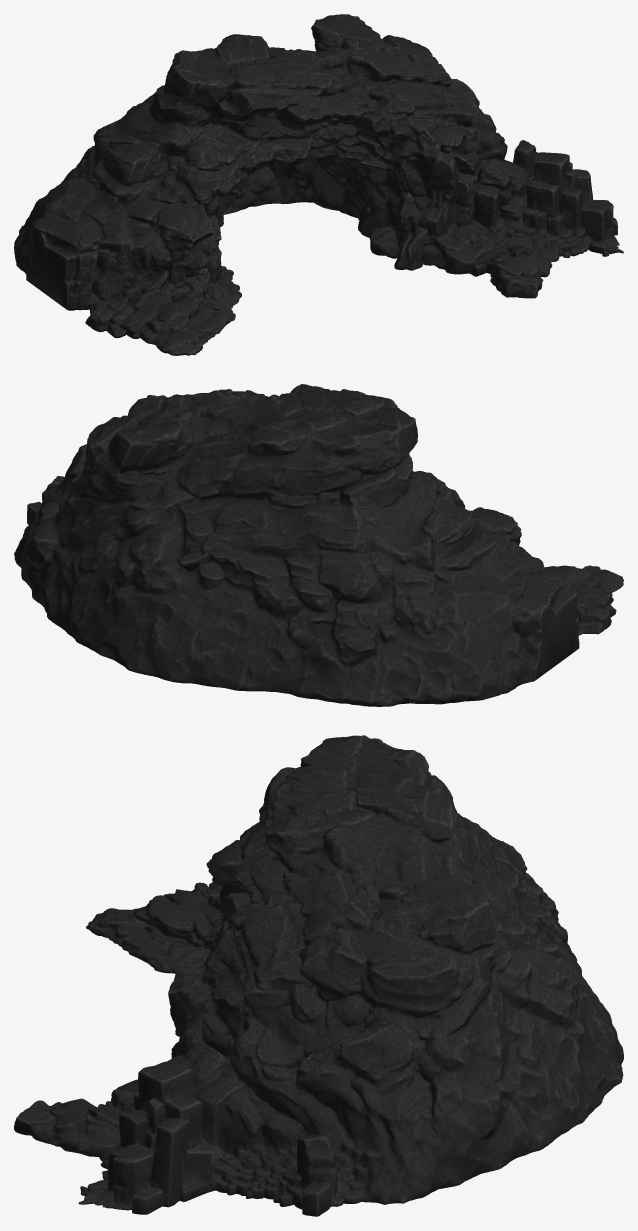
The model's file is Basalt_Arch.glb.
3 views of the same model, one above another, from view 1: azimuth 30°, elevation 25°; view 2: azimuth 150°, elevation 25°; view 3: azimuth 270°, elevation 25° (orthographic). The views are drawn at different scales.
Parts seen in each view (by area): view 1: Basalt_Arch; view 2: Basalt_Arch; view 3: Basalt_Arch.
Boxes of the visible parts, box(x1,y1,x2,y2) form: Basalt_Arch: box(14, 14, 623, 355); Basalt_Arch: box(14, 384, 623, 706); Basalt_Arch: box(14, 735, 623, 1216).
Size of the model in its own units: 1.89 by 0.6882 by 1.51.
Materials: 1 (1 with a texture image).
